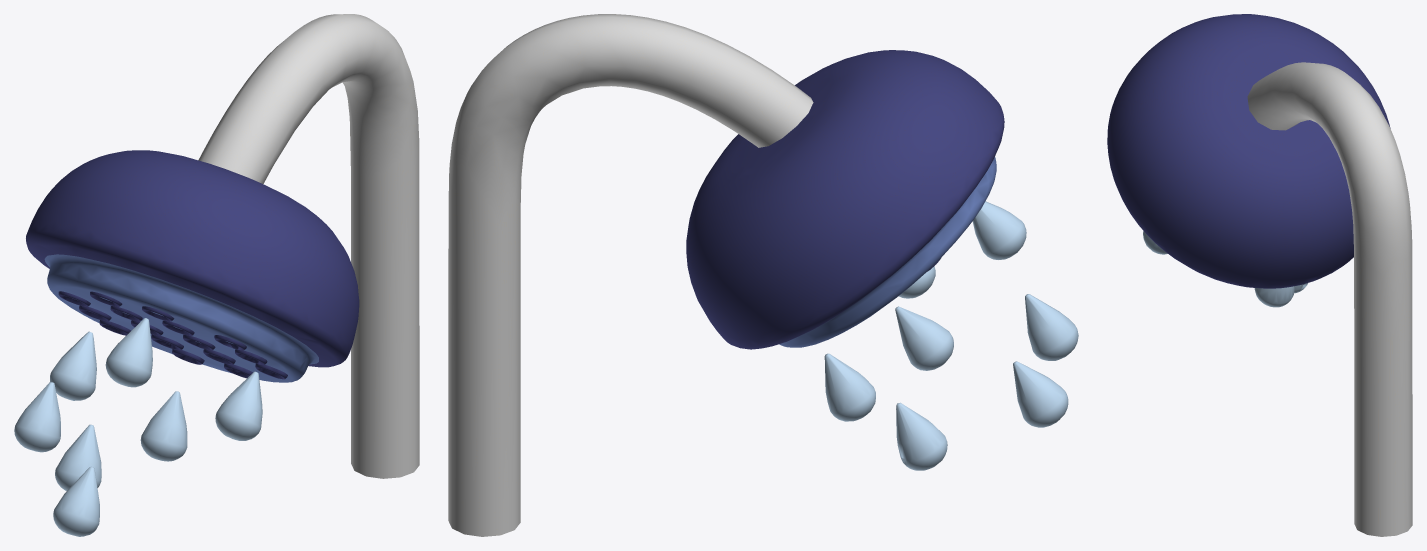
The model's file is shower.glb.
3 renders of one model, left to right at view 1: azimuth 30°, elevation 25°; view 2: azimuth 150°, elevation 25°; view 3: azimuth 270°, elevation 25°, orthographic. The views are drawn at different scales.
Visible parts, largest first — view 1: NurbsPath.001; view 2: NurbsPath.001; view 3: NurbsPath.001.
Boxes of the visible parts, x1,y1,x2,y2 form: NurbsPath.001: (14, 14, 419, 536); NurbsPath.001: (448, 14, 1078, 536); NurbsPath.001: (1107, 14, 1412, 536).
Bounding box in the file's own units: 1.61 × 1.5 × 1.01.
Materials: 1 (1 with a texture image).
